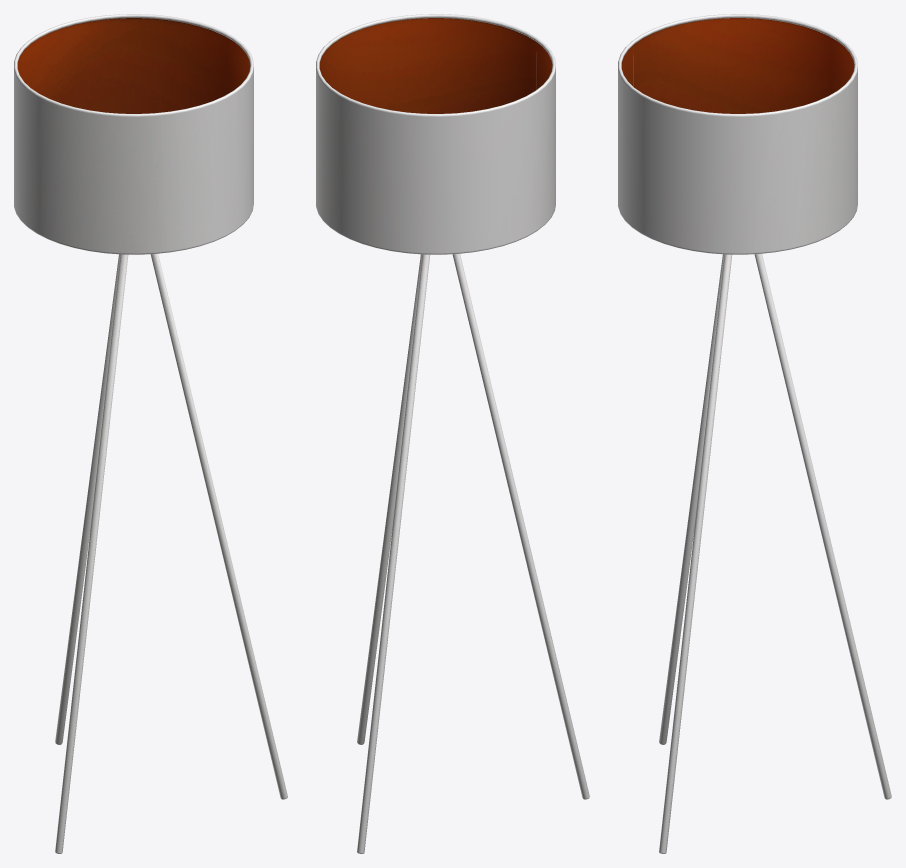
3 views of the same model, side by side, from view 1: azimuth 30°, elevation 25°; view 2: azimuth 150°, elevation 25°; view 3: azimuth 270°, elevation 25° (orthographic).
Parts seen in each view (by area): view 1: LAMP_SHADE, COPPER, MATT_GREY; view 2: LAMP_SHADE, COPPER, MATT_GREY; view 3: LAMP_SHADE, COPPER, MATT_GREY.
Part boxes in pixels (x1,y1,x2,y2): LAMP_SHADE: (14,14,253,254); COPPER: (17,18,250,113); MATT_GREY: (55,253,287,853); LAMP_SHADE: (316,14,555,254); COPPER: (319,18,552,113); MATT_GREY: (357,253,589,853); LAMP_SHADE: (618,14,857,254); COPPER: (621,18,854,113); MATT_GREY: (659,253,891,853).
Size of what is drawn, in the model's own units: 50.21 by 152 by 51.35.
4 materials, 3 textured.
